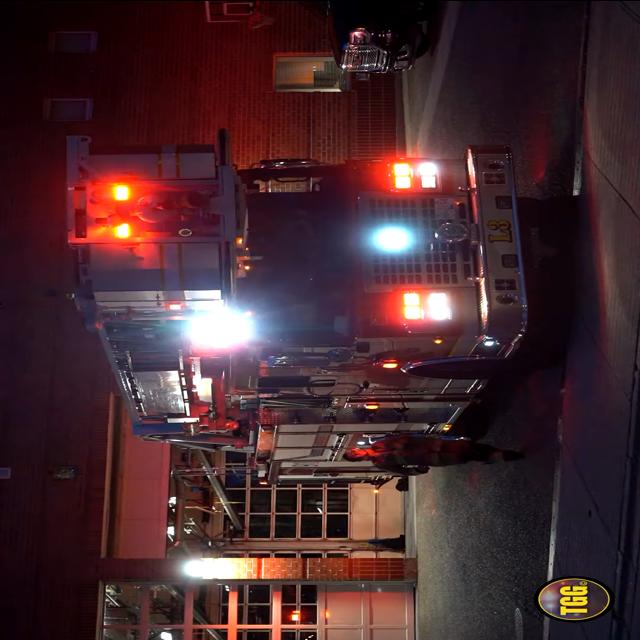emergency-vehicles: (38, 102, 549, 502)
